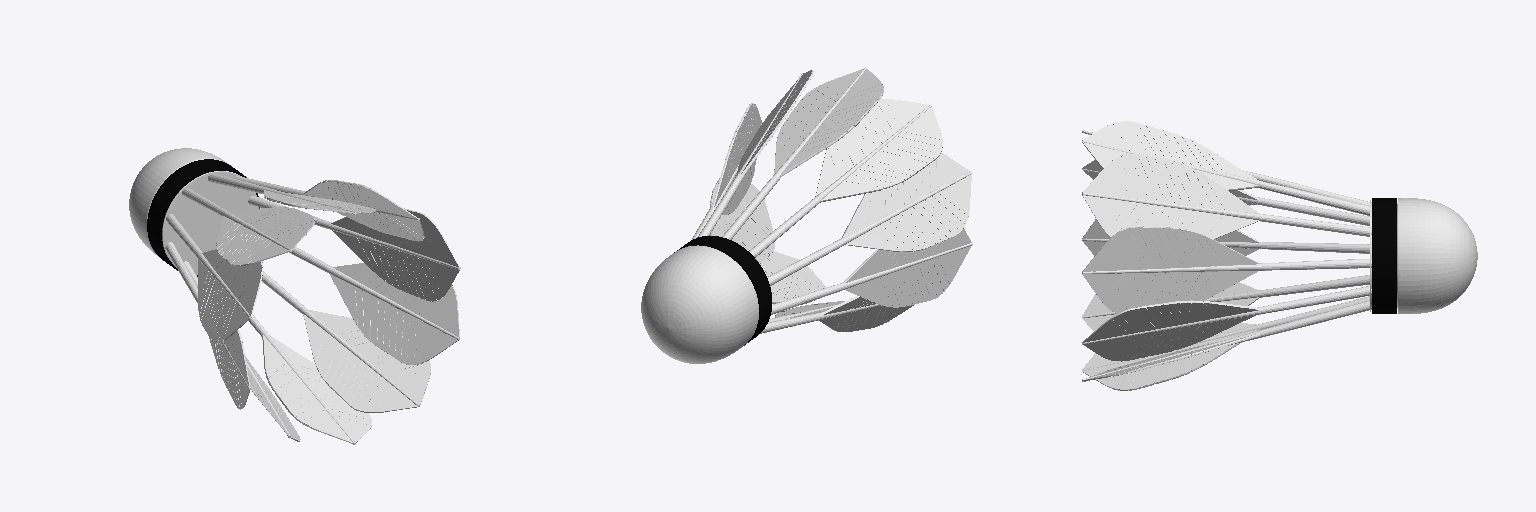
The model's file is 11744_Shuttlecock_v1_l3.obj.
3 views of the same model, side by side, from view 1: azimuth 30°, elevation 25°; view 2: azimuth 150°, elevation 25°; view 3: azimuth 270°, elevation 25° (orthographic).
Visible parts, largest first — view 1: shuttlecock_body_1, shuttlecock_body_3, shuttlecock_body_2; view 2: shuttlecock_body_1, shuttlecock_body_3, shuttlecock_body_2; view 3: shuttlecock_body_1, shuttlecock_body_3, shuttlecock_body_2.
Boxes of the visible parts, box(x1,y1,x2,y2) form: shuttlecock_body_1: box(165, 173, 460, 444); shuttlecock_body_3: box(129, 148, 258, 274); shuttlecock_body_2: box(147, 159, 259, 276); shuttlecock_body_1: box(692, 67, 972, 333); shuttlecock_body_3: box(641, 245, 758, 363); shuttlecock_body_2: box(674, 236, 771, 345); shuttlecock_body_1: box(1082, 121, 1371, 390); shuttlecock_body_3: box(1370, 198, 1477, 313); shuttlecock_body_2: box(1372, 198, 1396, 313).
Size of the model in its own units: 3.82 by 3.66 by 5.57.